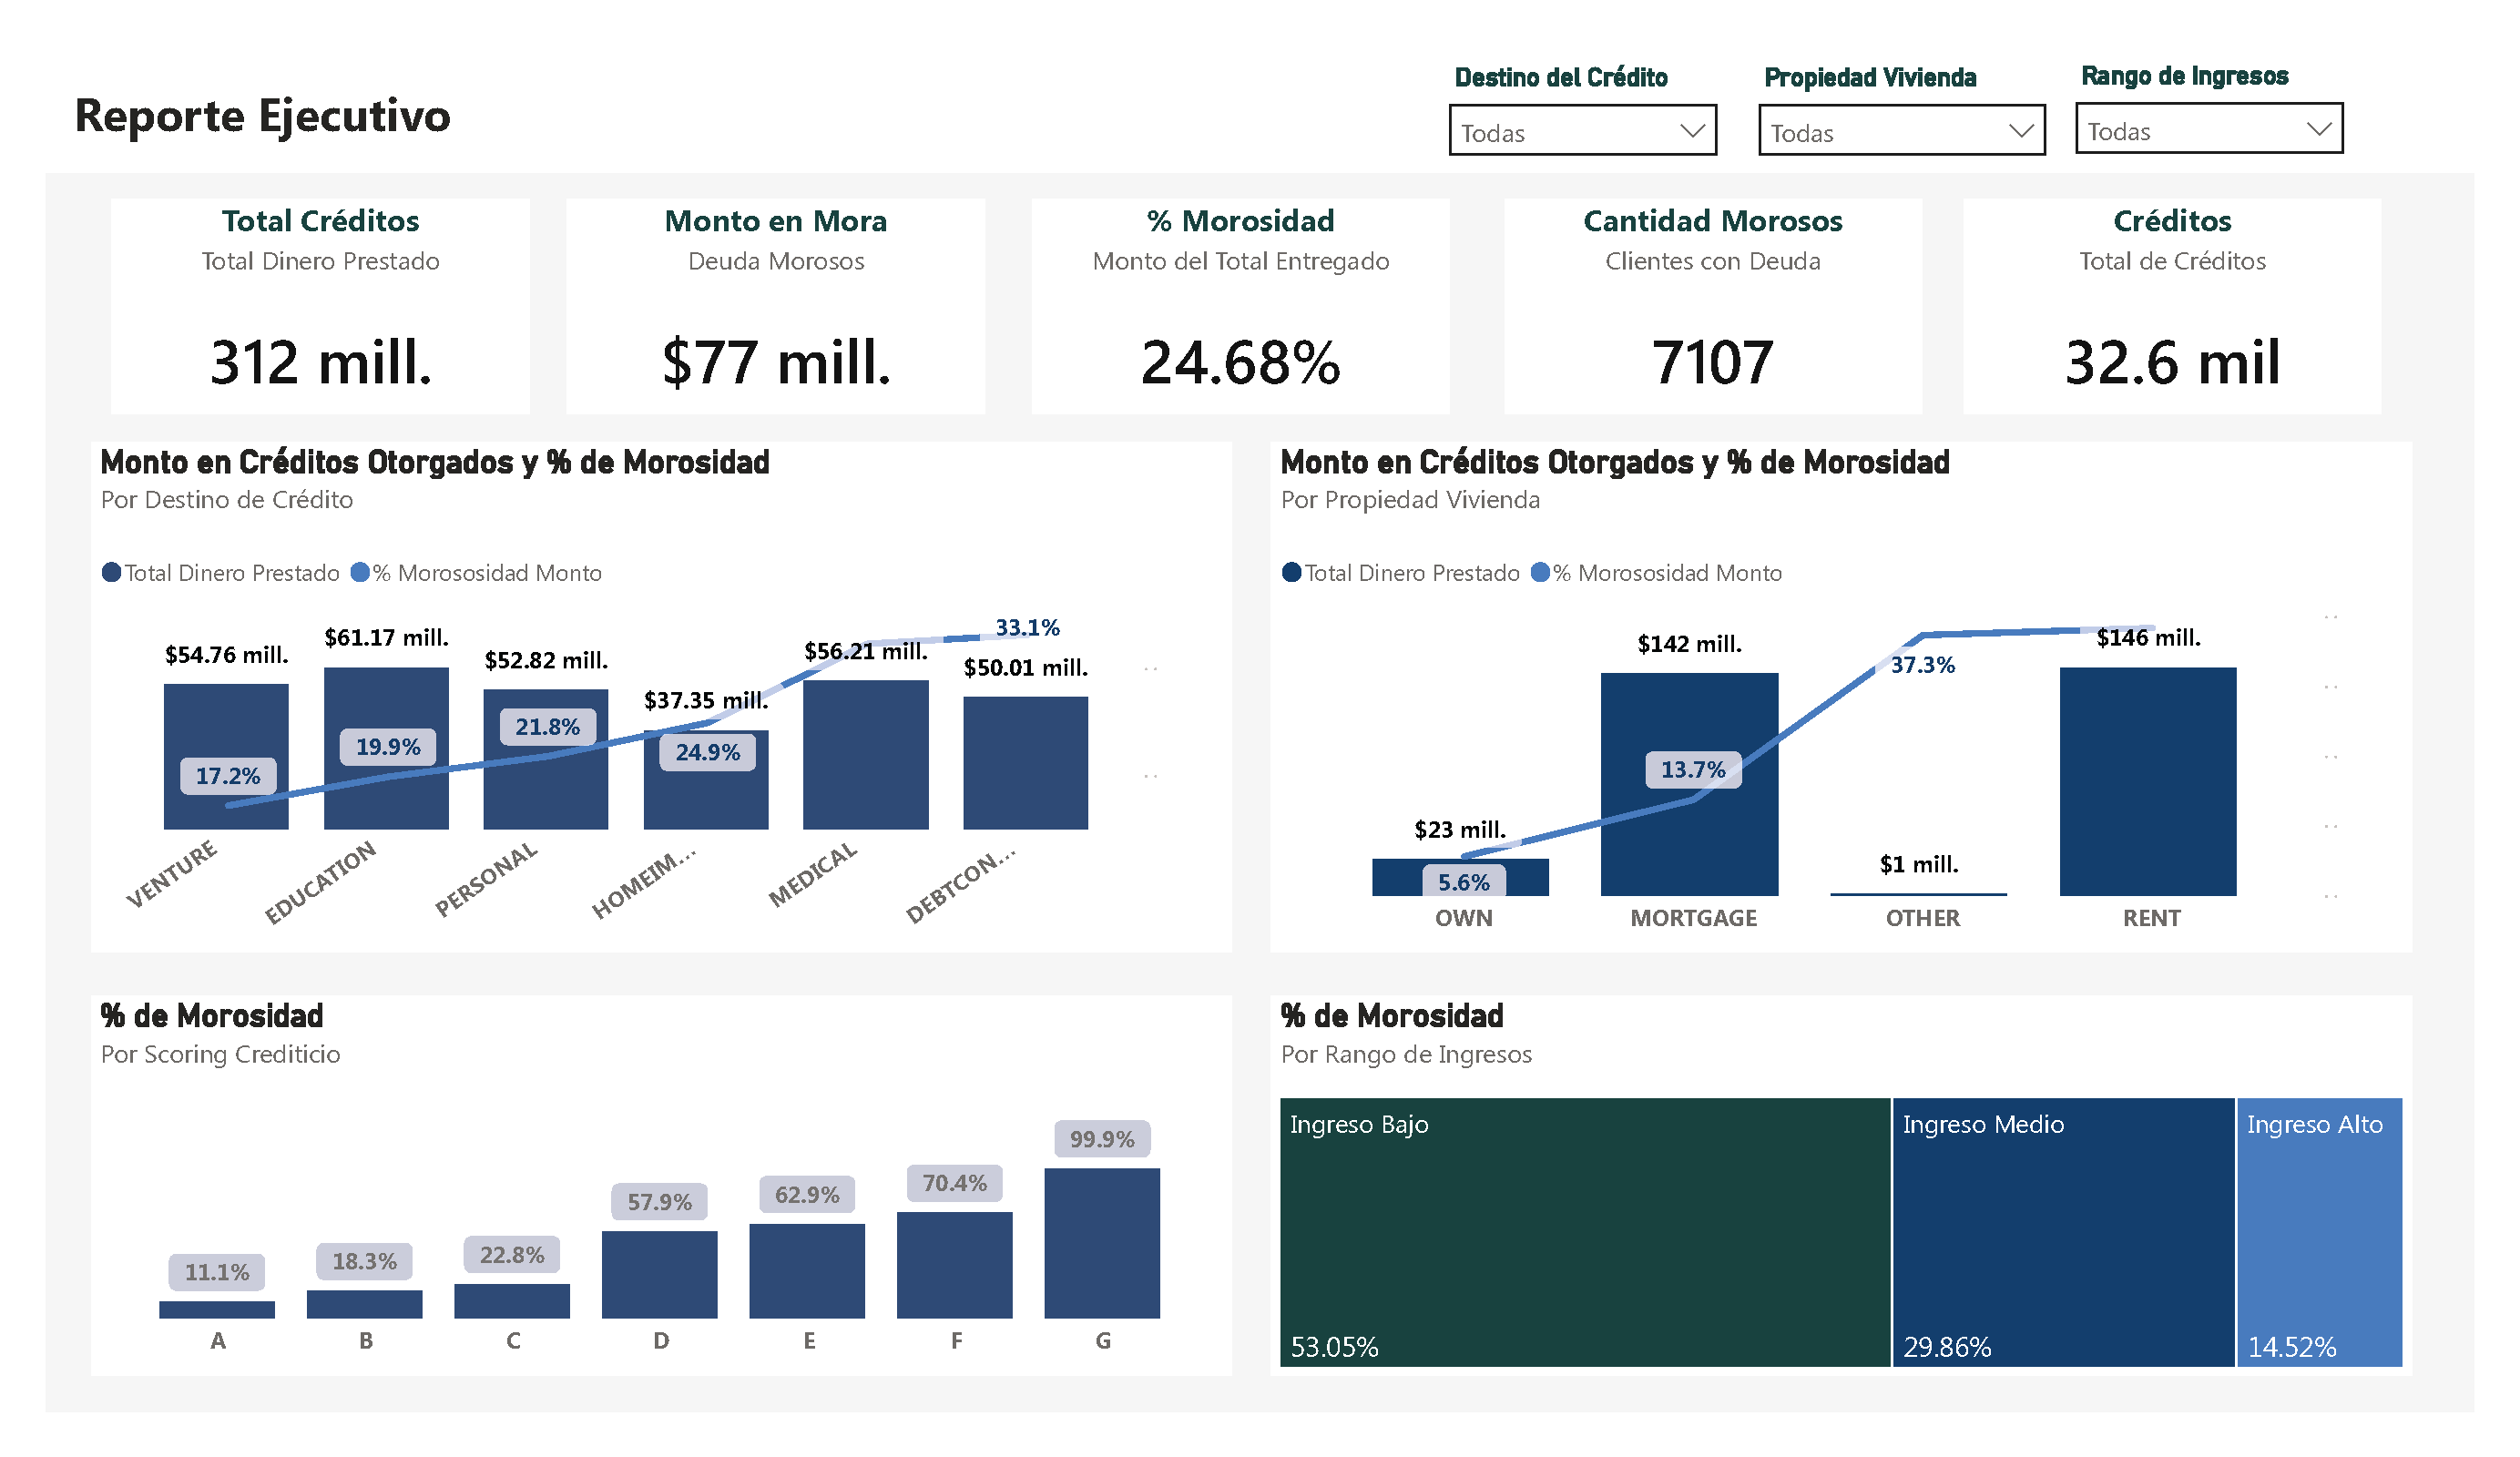

Layout of this report page (visuals, bound fields, positions):
{"tool":"powerbi","page":{"name":"Resumen Ejecutivo","canvas":[1280,720],"ordinal":0},"visuals":[{"type":"cardVisual","title":"Total Créditos","fields":{"Data":["_Medidas.Total Dinero Prestado"]},"box":[34.6,80.6,220.3,113.7],"z":0},{"type":"cardVisual","title":"Créditos","fields":{"Data":["_Medidas.Total Clientes"]},"box":[1010.8,80.6,220.3,113.7],"z":1000},{"type":"cardVisual","title":"Monto en Mora","fields":{"Data":["_Medidas.Monto en Mora"]},"box":[275,80.6,220.3,113.7],"z":2000},{"type":"cardVisual","title":"% Morosidad","fields":{"Data":["_Medidas.% Morososidad Monto"]},"box":[519.8,80.6,220.3,113.7],"z":3000},{"type":"cardVisual","title":"Cantidad Morosos","fields":{"Data":["_Medidas.Cantidad Morosos"]},"box":[768.9,80.6,220.3,113.7],"z":4000},{"type":"shape","box":[0,0,1280,67.4],"z":5000},{"type":"textbox","box":[9.6,13.8,234,53.7],"z":6000},{"type":"lineClusteredColumnComboChart","title":"Monto en Créditos Otorgados y % de Morosidad","fields":{"Category":["credit_risk_dataset.loan_intent"],"Y":["_Medidas.Total Dinero Prestado"],"Y2":["_Medidas.% Morososidad Monto"]},"box":[24.5,208.8,600.9,269],"z":7000},{"type":"lineClusteredColumnComboChart","title":"Monto en Créditos Otorgados y % de Morosidad","fields":{"Category":["credit_risk_dataset.person_home_ownership"],"Y":["_Medidas.Total Dinero Prestado"],"Y2":["_Medidas.% Morososidad Monto"]},"box":[646.5,208.8,600.9,269],"z":8000},{"type":"slicer","fields":{"Values":["credit_risk_dataset.loan_intent"]},"box":[730,4.3,161.4,61.4],"z":9000},{"type":"slicer","fields":{"Values":["credit_risk_dataset.person_home_ownership"]},"box":[893.3,4.4,170.6,61],"z":10000},{"type":"slicer","fields":{"Values":["credit_risk_dataset.rango_ingresos"]},"box":[1060,2.9,161.4,61.4],"z":11000},{"type":"clusteredColumnChart","title":"% de Morosidad","fields":{"Category":["credit_risk_dataset.loan_grade"],"Y":["_Medidas.% Morososidad Monto"]},"box":[24.1,500.5,600.9,200.7],"z":12000},{"type":"treemap","title":"% de Morosidad","fields":{"Group":["credit_risk_dataset.rango_ingresos"],"Values":["_Medidas.% Morososidad Monto"]},"box":[646.4,500.5,600.9,200.7],"z":13000}]}

Visuals, with their boxes on the page's 1280x720 design canvas (x1, y1, x2, y2). These are canvas units, not pixel positions in the 2520x1457 screenshot, which may show the page scaled, cropped or inside an application window:
"Total Créditos" cardVisual: pyautogui.locateOnScreen(35, 81, 255, 194)
"Créditos" cardVisual: pyautogui.locateOnScreen(1011, 81, 1231, 194)
"Monto en Mora" cardVisual: pyautogui.locateOnScreen(275, 81, 495, 194)
"% Morosidad" cardVisual: pyautogui.locateOnScreen(520, 81, 740, 194)
"Cantidad Morosos" cardVisual: pyautogui.locateOnScreen(769, 81, 989, 194)
shape: pyautogui.locateOnScreen(0, 0, 1280, 67)
textbox: pyautogui.locateOnScreen(10, 14, 244, 68)
"Monto en Créditos Otorgados y % de Morosidad" lineClusteredColumnComboChart: pyautogui.locateOnScreen(24, 209, 625, 478)
"Monto en Créditos Otorgados y % de Morosidad" lineClusteredColumnComboChart: pyautogui.locateOnScreen(646, 209, 1247, 478)
slicer - credit_risk_dataset.loan_intent: pyautogui.locateOnScreen(730, 4, 891, 66)
slicer - credit_risk_dataset.person_home_ownership: pyautogui.locateOnScreen(893, 4, 1064, 65)
slicer - credit_risk_dataset.rango_ingresos: pyautogui.locateOnScreen(1060, 3, 1221, 64)
"% de Morosidad" clusteredColumnChart: pyautogui.locateOnScreen(24, 500, 625, 701)
"% de Morosidad" treemap: pyautogui.locateOnScreen(646, 500, 1247, 701)
